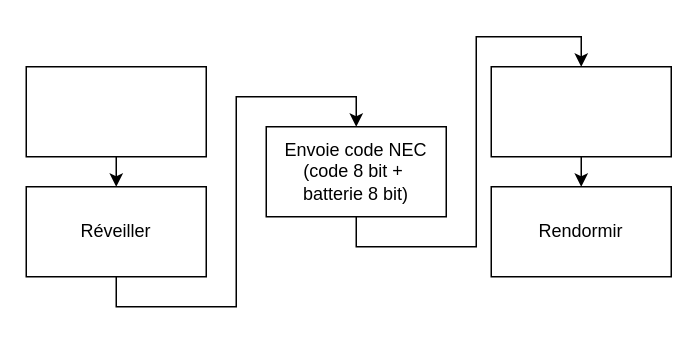
This 698x345 diagram has some shape labels left out. Here are the shapes that lost their labels. From the top down, the centre of each, then its label:
the point at 115,111: Front montant sur RX pour l'infarouge
the point at 580,111: Lecture de l'ADC pour la tension de la pile (1 fois sur 5)
